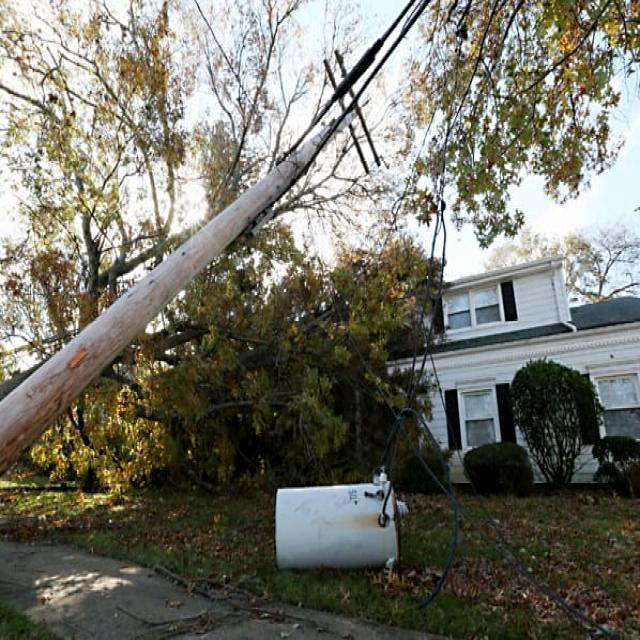Broken Pole: (0, 49, 387, 478)
